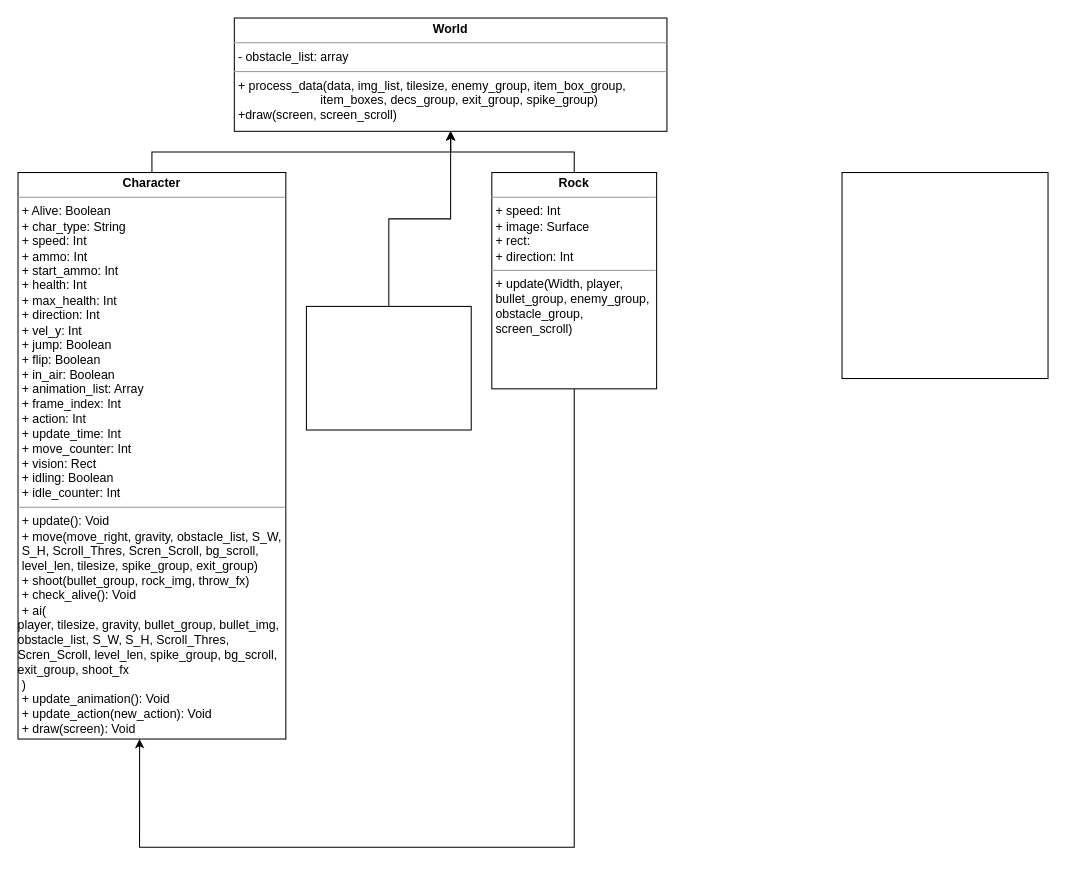
Some shapes in this 1066 by 873 pixel diagram are drawn without their labels. The shapes that lost their labels are listed below. From the top down, each one's centre as x and y in pixels, then its label:
At point 944,275: "Itembox + item_type: String + image: + rect: + update( player, screen_scroll)".
At point 388,367: "Healthbar + x: Int + y: Int + health: Int + max_health + draw(health, screen)".
